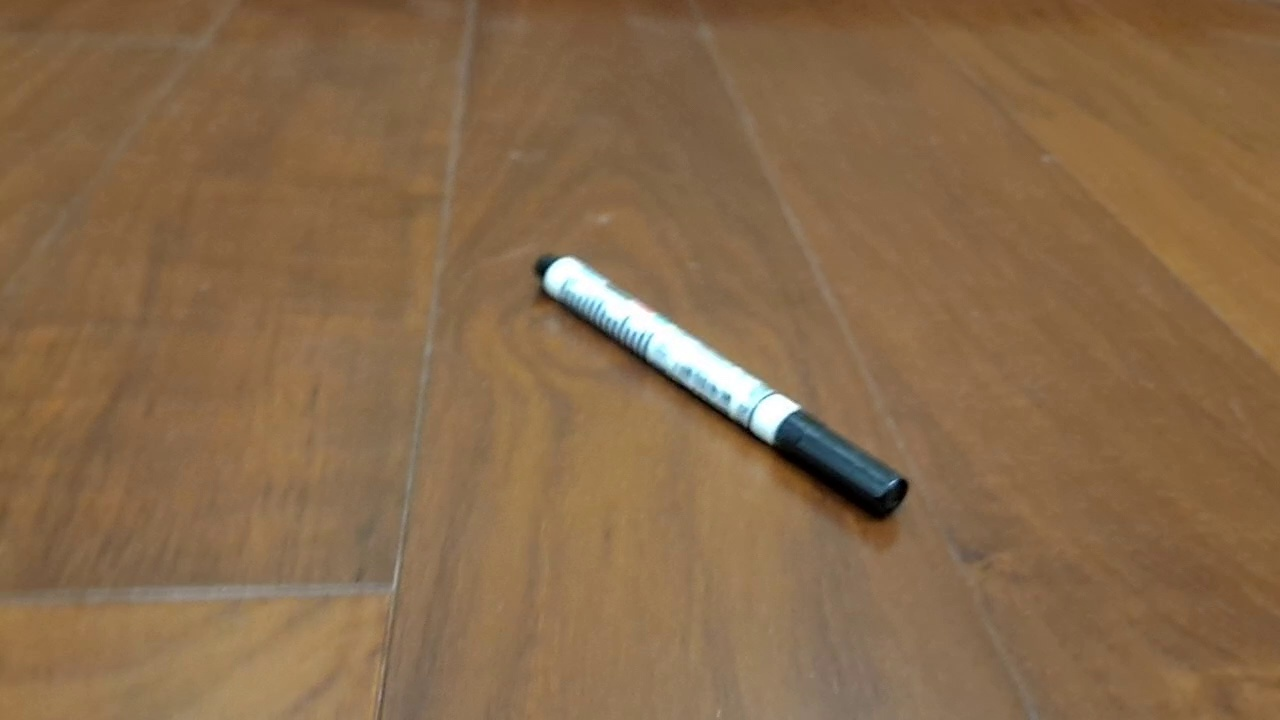pen: (531, 252, 910, 523)
